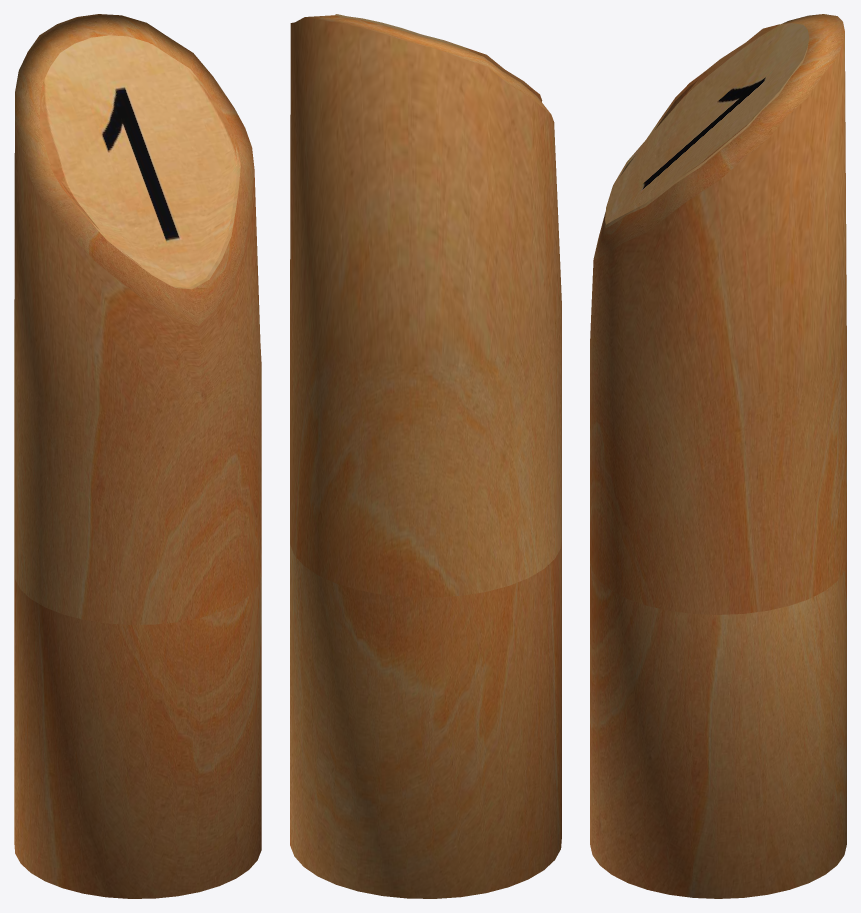
The model's file is molkky1.glb.
3 renders of one model, left to right at view 1: azimuth 30°, elevation 25°; view 2: azimuth 150°, elevation 25°; view 3: azimuth 270°, elevation 25°, orthographic. The views are drawn at different scales.
Parts seen in each view (by area): view 1: Cylinder.001; view 2: Cylinder.001; view 3: Cylinder.001.
Boxes of the visible parts, x1=… form: Cylinder.001: x1=14, y1=14, x2=261, y2=898; Cylinder.001: x1=290, y1=14, x2=561, y2=898; Cylinder.001: x1=590, y1=14, x2=846, y2=898.
Size of the model in its own units: 0.4975 by 1.74 by 0.4975.
2 materials, 2 textured.
